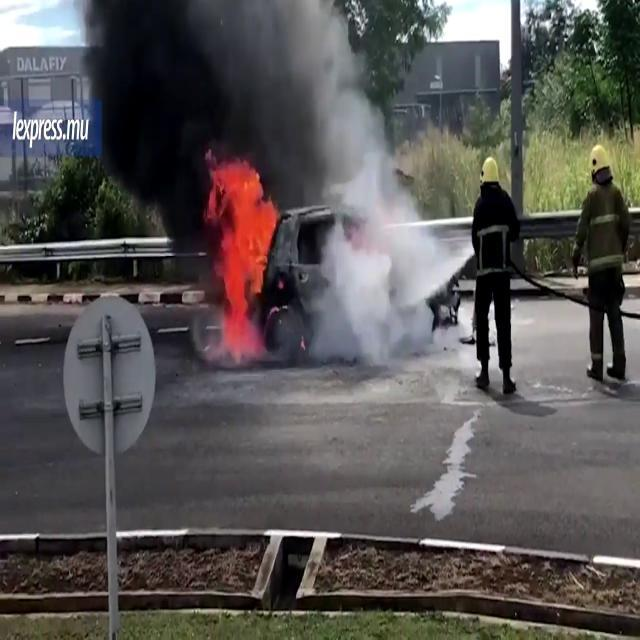Fire: (206, 150, 280, 350)
Smoke: (73, 1, 423, 236), (288, 5, 437, 372)
